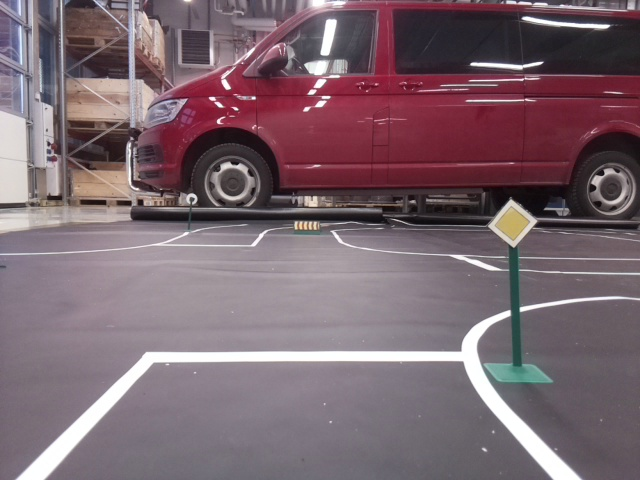Priority: (486, 199, 538, 247)
